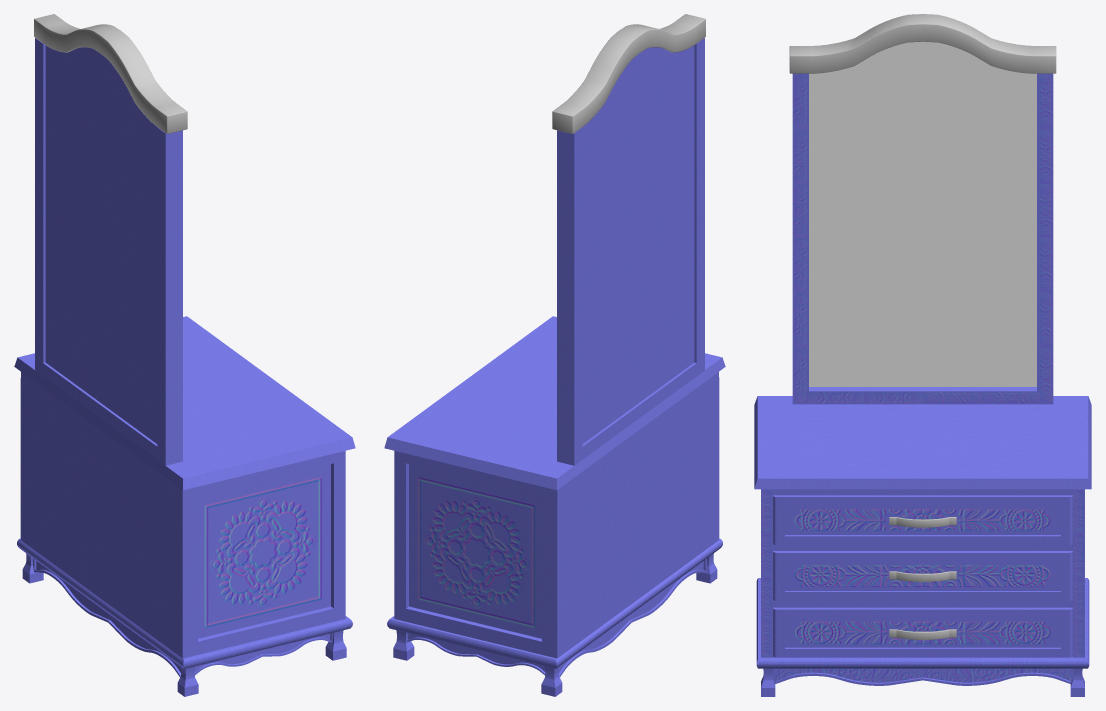
File: Dressing_table.fbx
3 views of the same model, side by side, from view 1: azimuth 30°, elevation 25°; view 2: azimuth 150°, elevation 25°; view 3: azimuth 270°, elevation 25° (orthographic).
Parts seen in each view (by area): view 1: Cube, Cube_008; view 2: Cube, Cube_008; view 3: Cube_007, Cube, Cube_002, Cube_006, Cube_005, Cube_008, Cube_001, Cube_003, Cube_004.
Part boxes in pixels (left/top/right/bottom): Cube: left=14, top=38, right=355, bottom=696; Cube_008: left=34, top=14, right=187, bottom=133; Cube: left=384, top=38, right=725, bottom=696; Cube_008: left=552, top=14, right=705, bottom=133; Cube_007: left=809, top=41, right=1036, bottom=386; Cube: left=754, top=73, right=1091, bottom=696; Cube_002: left=773, top=607, right=1072, bottom=657; Cube_006: left=773, top=495, right=1072, bottom=545; Cube_005: left=773, top=551, right=1072, bottom=600; Cube_008: left=789, top=14, right=1056, bottom=73; Cube_001: left=889, top=571, right=956, bottom=581; Cube_003: left=889, top=629, right=956, bottom=639; Cube_004: left=889, top=517, right=956, bottom=527.
Size of the model in its own units: 114 by 379 by 192.
